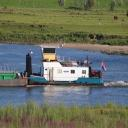tugboat: (25, 38, 107, 89)
